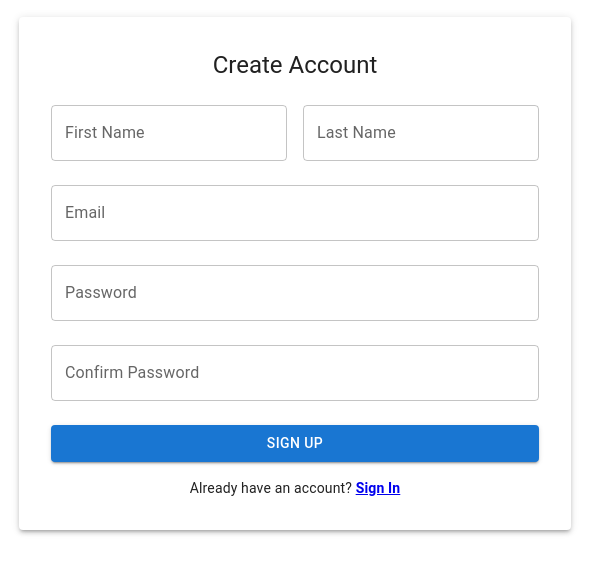
RegisterPage › shows validation error when passwords do not match
The width and height of the screenshot is (591, 575).
Type "John" into the field with test id "first-name-input".
click(169, 133); type("John")  # box [51, 105, 287, 161]
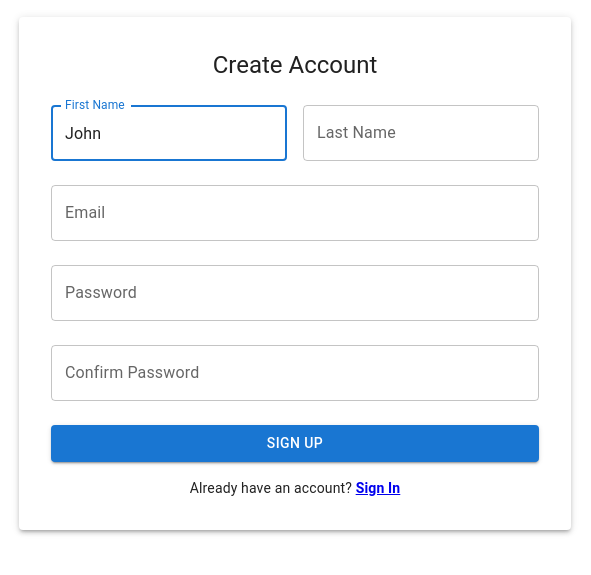
Type "Doe" into the field with test id "last-name-input".
click(421, 133); type("Doe")  # box [303, 105, 539, 161]
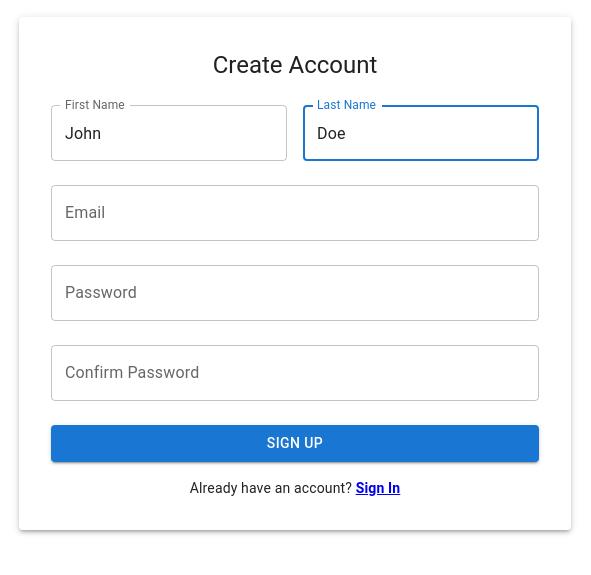
Type "john@test.com" into the field labelled "Email".
click(295, 213); type("john@test.com")  # box [51, 185, 539, 241]
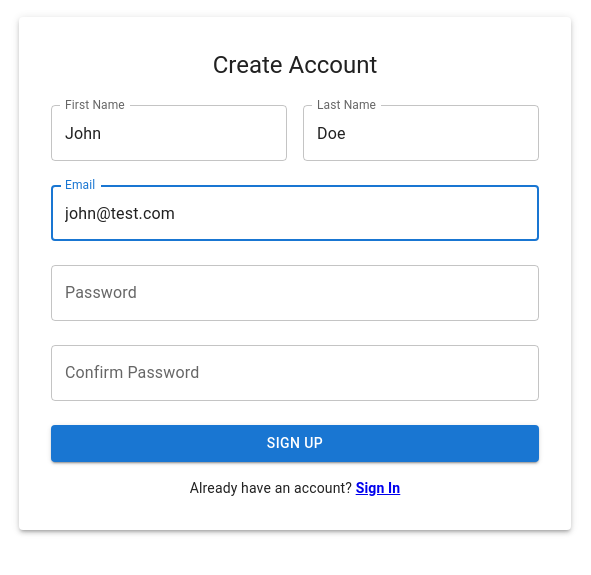
Type "Password1!" into the password field with test id "password-input".
click(295, 293); type("Password1!")  # box [51, 265, 539, 321]
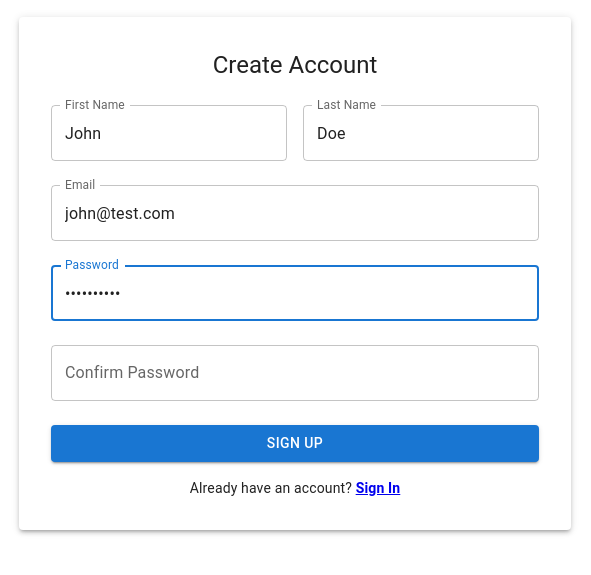
Type "Different1!" into the password field with test id "confirm-password-input".
click(295, 373); type("Different1!")  # box [51, 345, 539, 401]
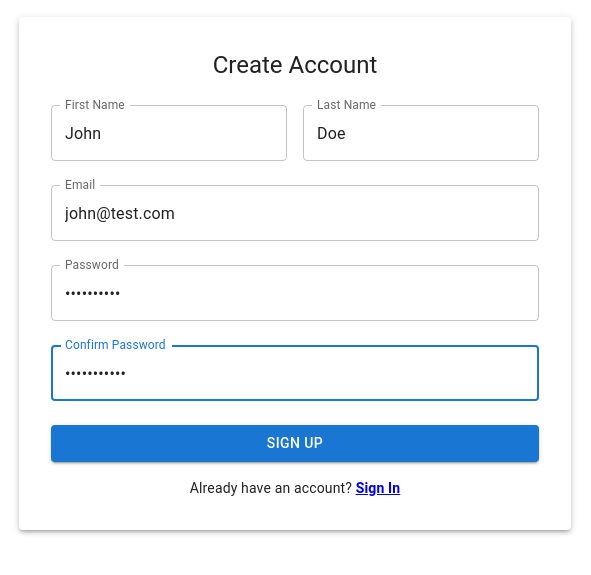
Click the button with test id "submit-button".
click(295, 444)  # box [51, 425, 539, 462]
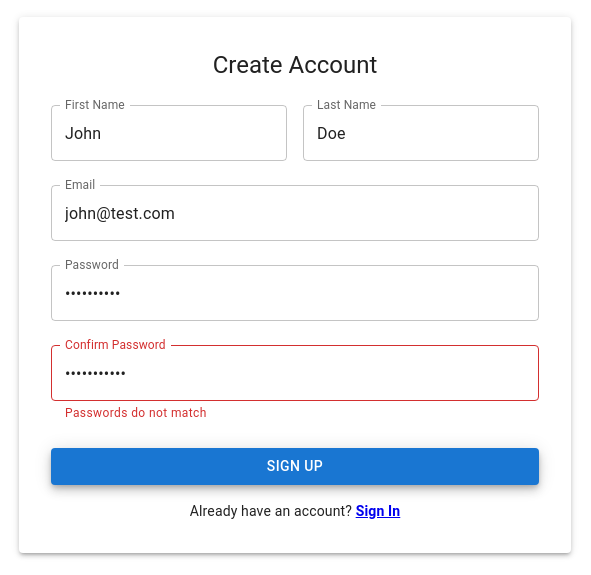
Result: the text "Passwords do not match" is shown at [65, 406, 207, 420]
